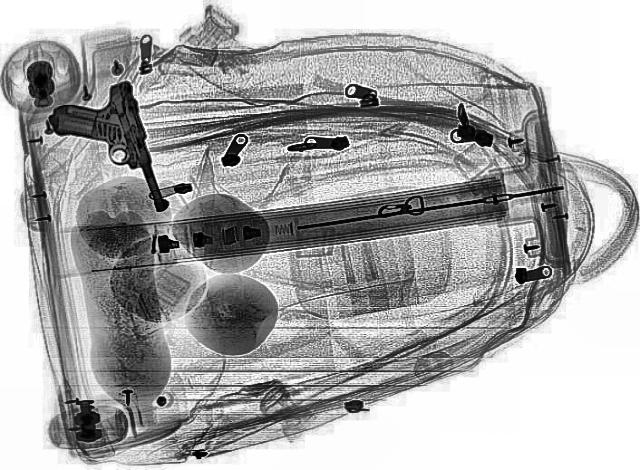Gun: (38, 79, 174, 221)
